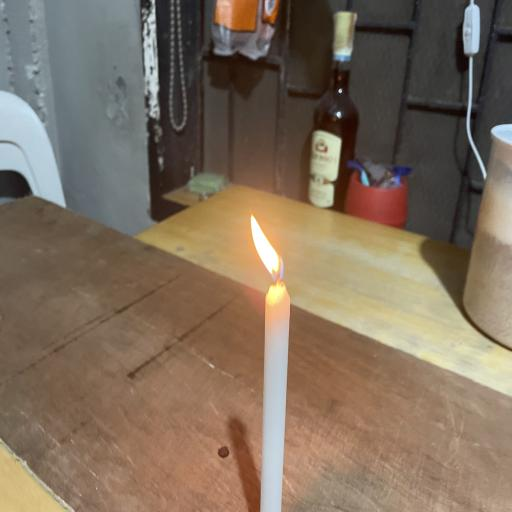fire: (230, 205, 292, 282)
